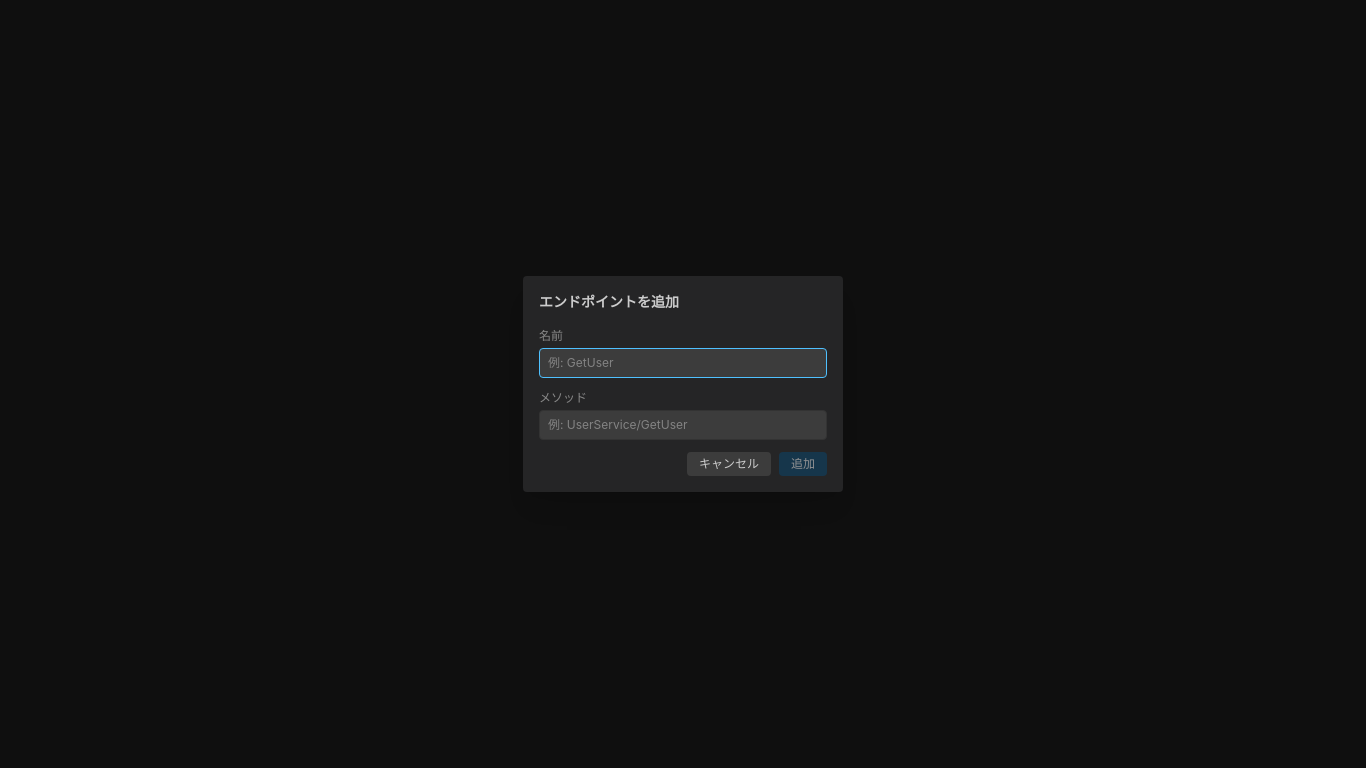
Test: EndpointModal › メソッドを入力するとcasesDirが自動表示される
Type "UserService/GetUser" into the field with placeholder "例: UserService/GetUser" at (683, 425), box [539,410,827,440]
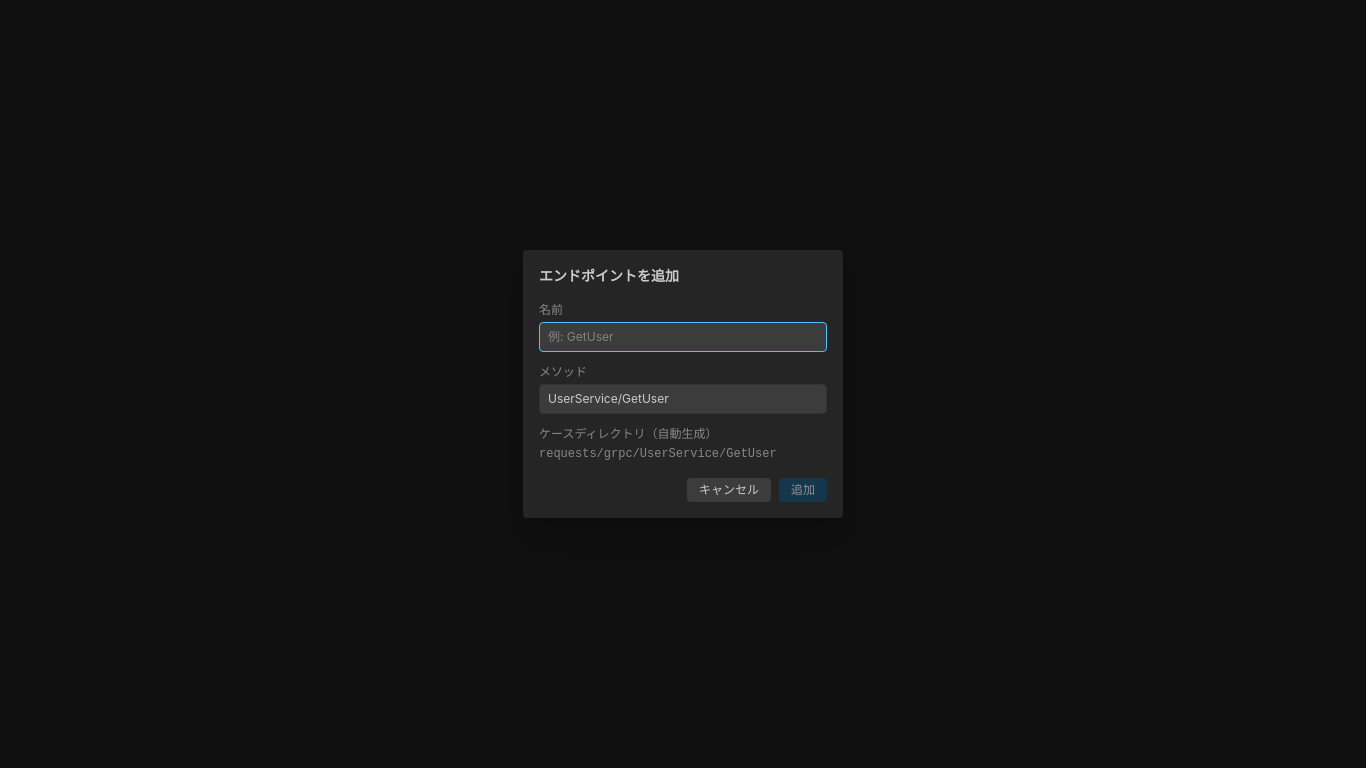
expect the text "requests/grpc/UserService/GetUser" is shown: met, box [539,447,777,461]
